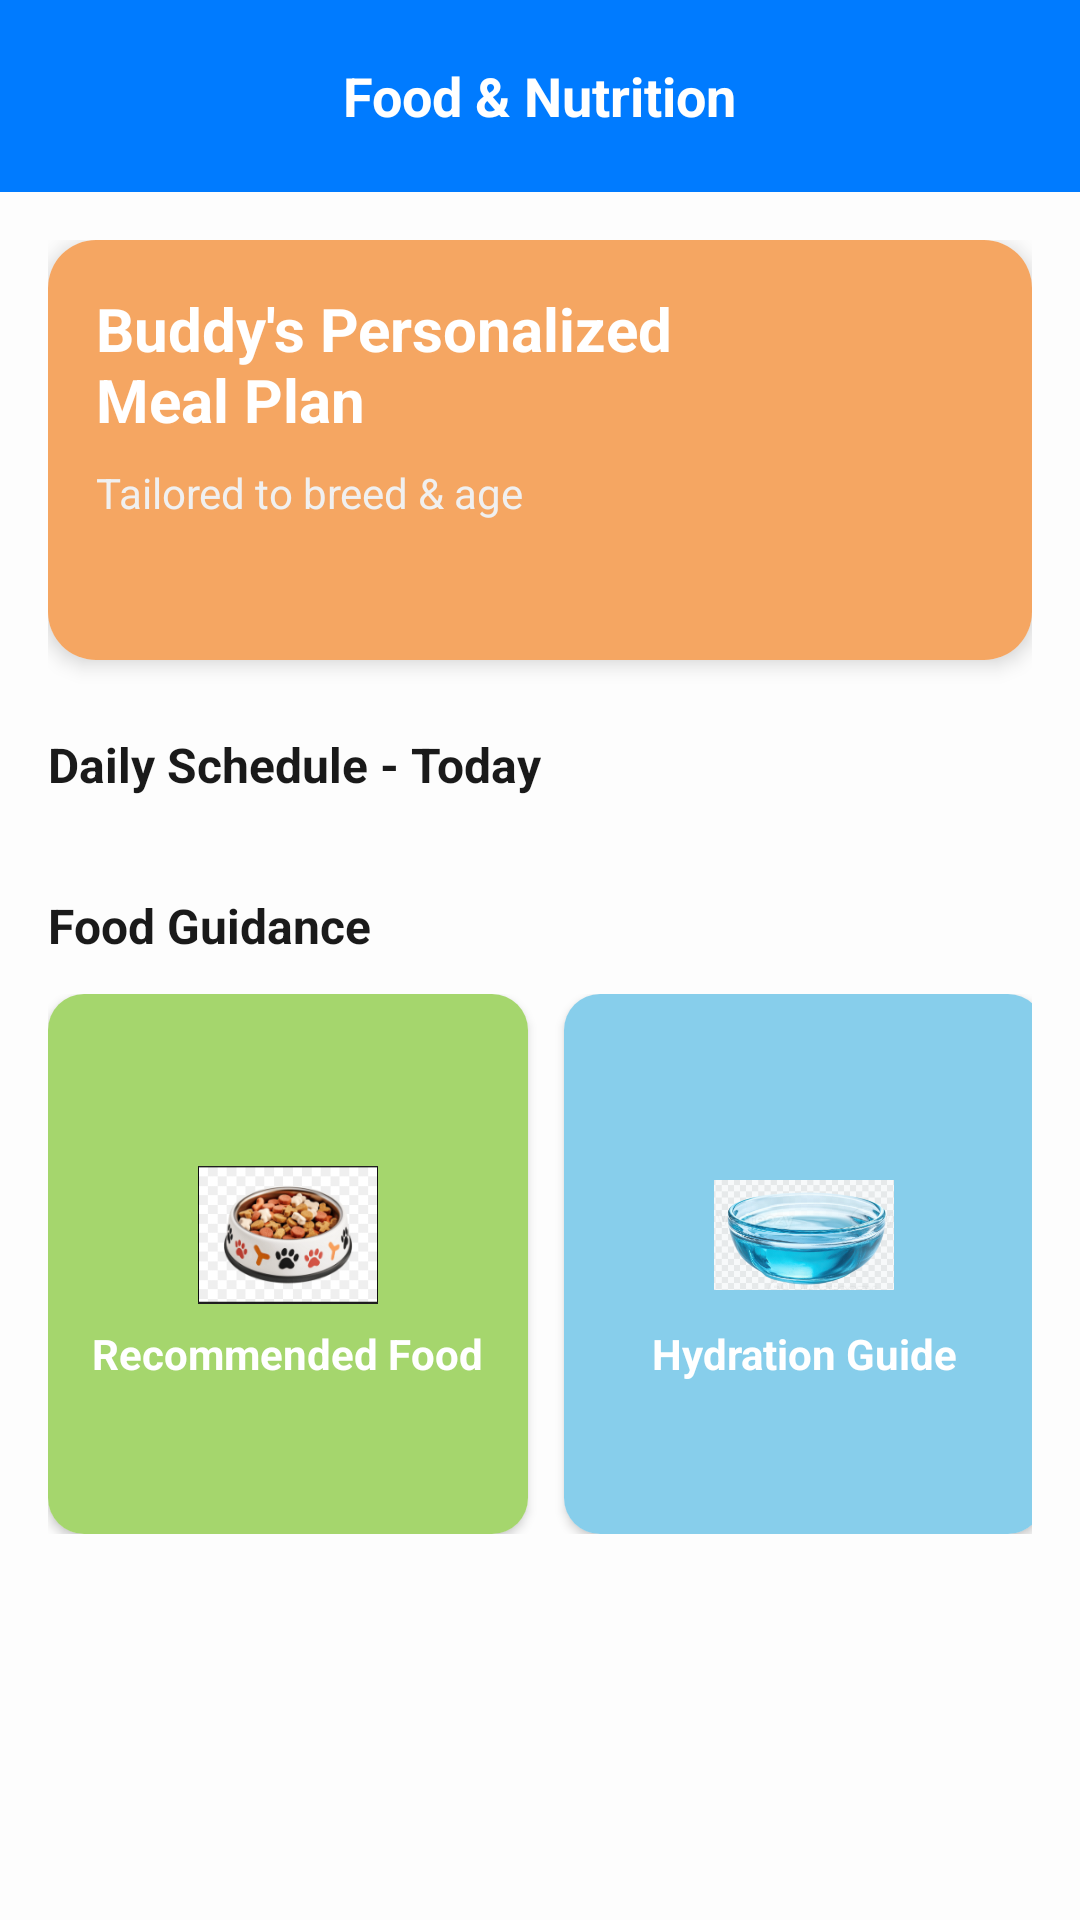

Screen size 1080x1920. Icon name, then its center in pixels as (x,y):
water bowl: (804,1235)
